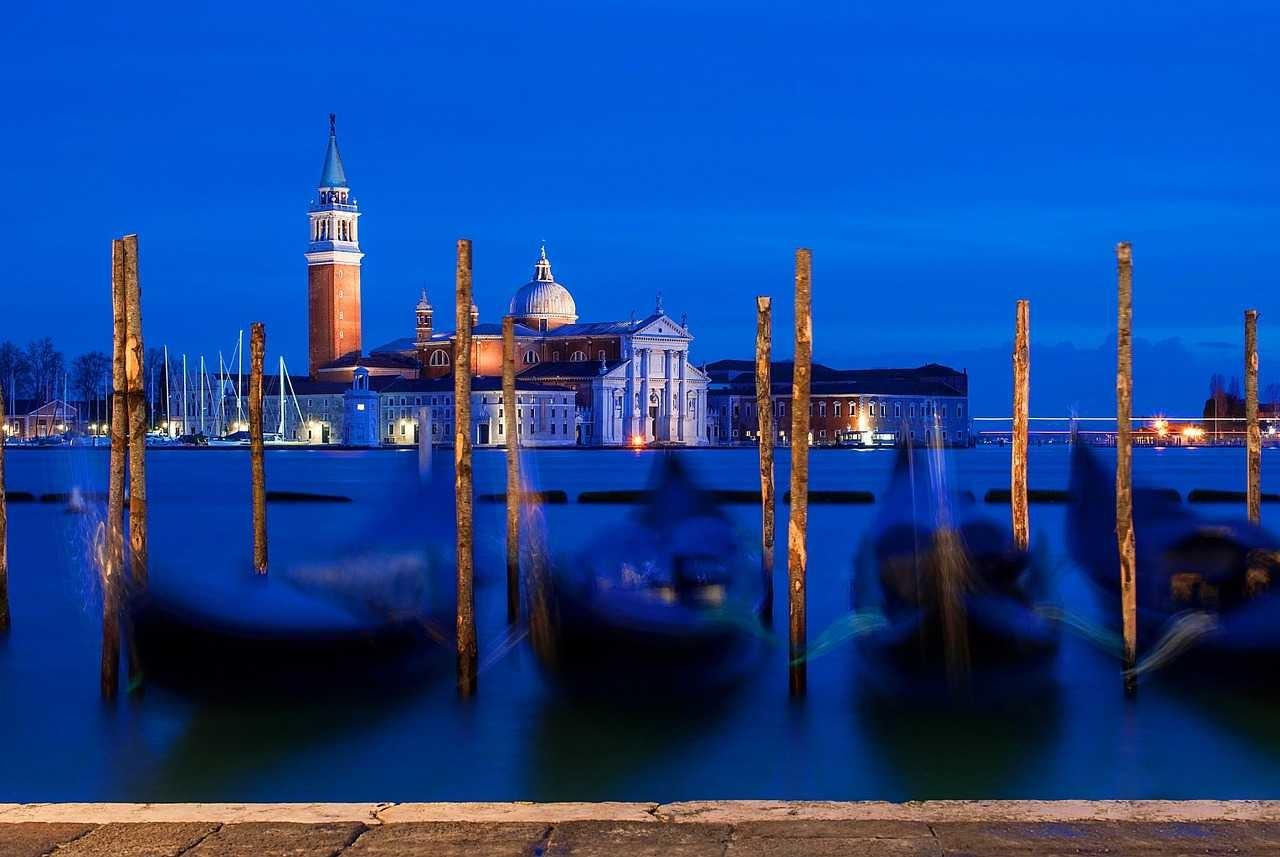kayak: (1072, 288, 1280, 692), (849, 404, 1061, 716), (473, 429, 904, 510), (1129, 482, 1280, 682)
